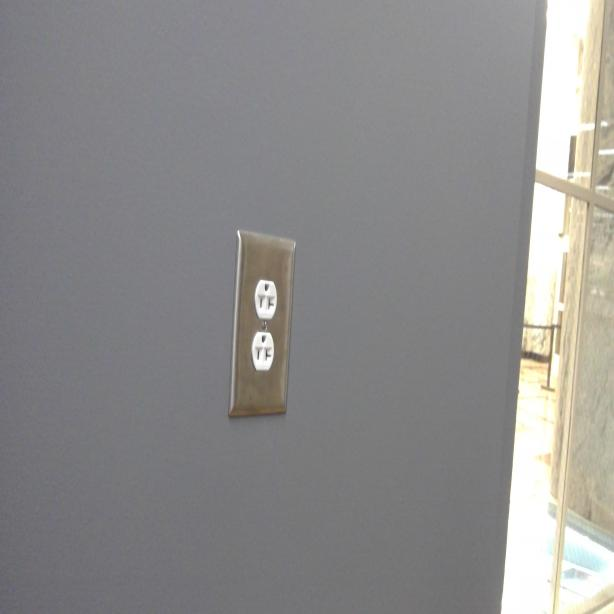typeb: (252, 331, 275, 371), (256, 278, 277, 318)
